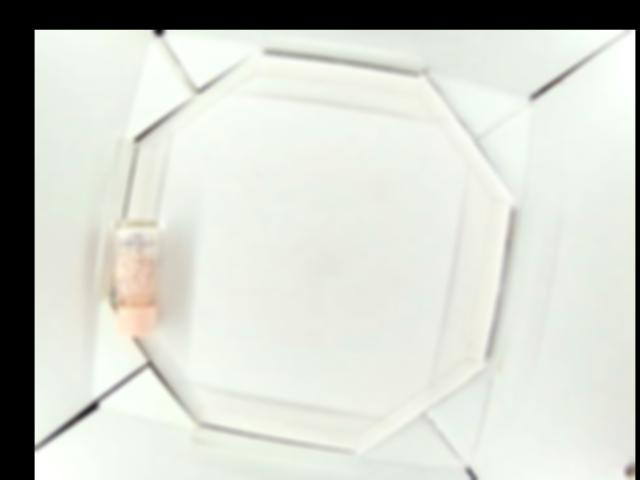Bottle: (111, 217, 160, 338)
